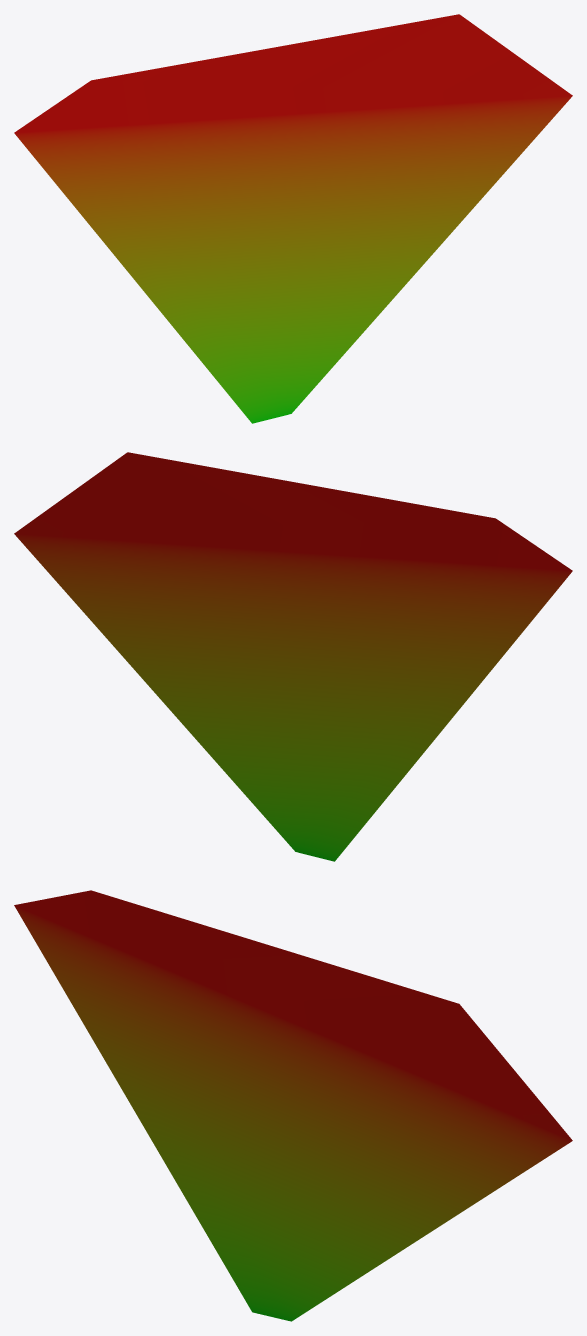
File: Coltsfoot_LOD4_Var13_xbtkdfvqx.fbx
The picture shows the model from 3 angles, top to bottom: view 1: azimuth 30°, elevation 25°; view 2: azimuth 150°, elevation 25°; view 3: azimuth 330°, elevation 25°; orthographic projection.
Parts seen in each view (by area): view 1: _yw8t_Var13_LOD4; view 2: _yw8t_Var13_LOD4; view 3: _yw8t_Var13_LOD4.
Part boxes in pixels (<box>): _yw8t_Var13_LOD4: <box>14,14,572,423</box>; _yw8t_Var13_LOD4: <box>14,452,572,861</box>; _yw8t_Var13_LOD4: <box>14,890,572,1321</box>.
Bounding box in the file's own units: 16.76 × 10.96 × 2.67e-08.
